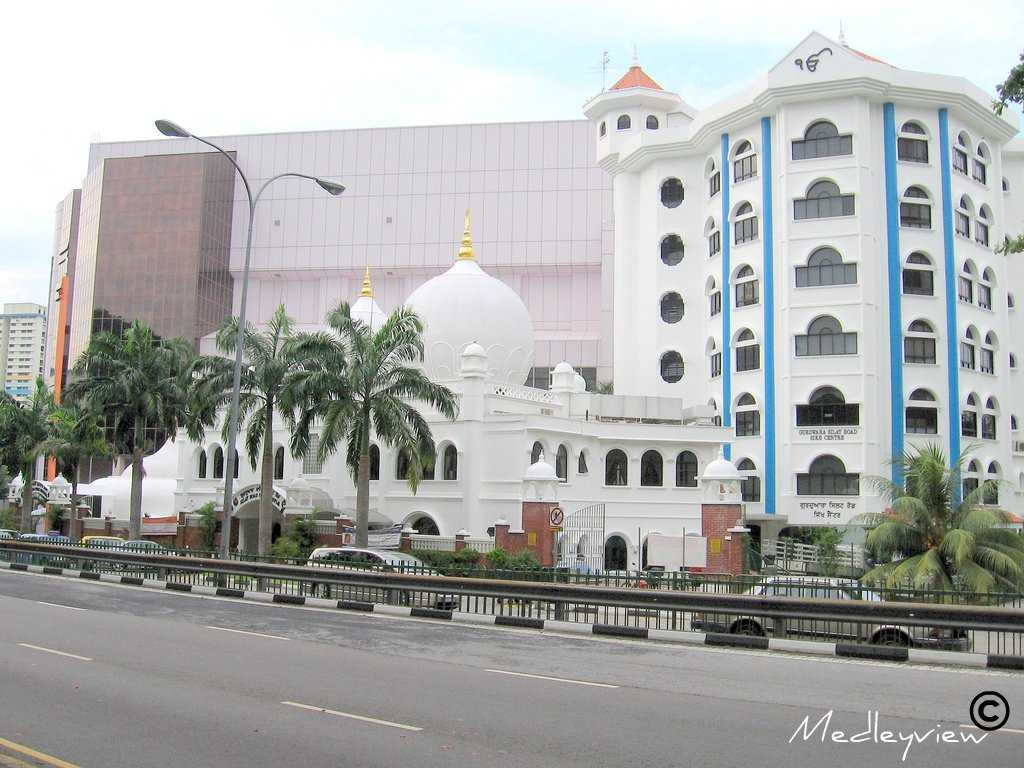Gurdwara: (140, 228, 656, 544)
